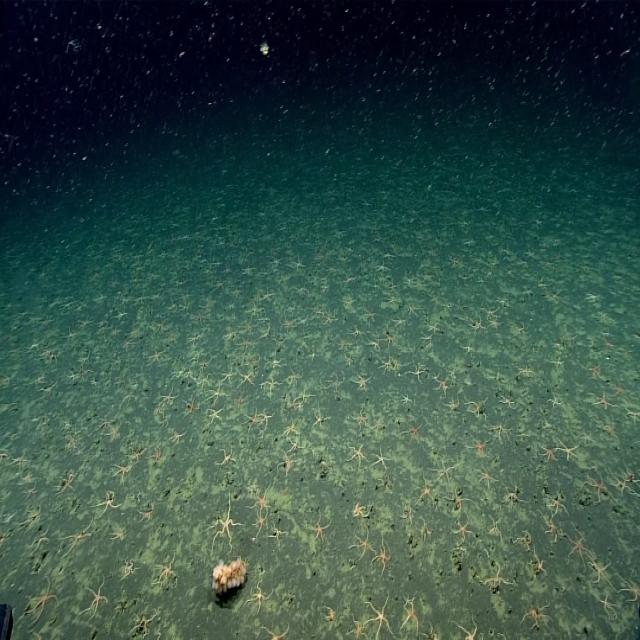brittle-stars: (210, 497, 238, 550), (26, 580, 56, 619), (84, 579, 109, 619), (63, 520, 92, 554), (368, 598, 392, 638), (584, 470, 609, 503), (566, 531, 588, 566), (247, 580, 270, 613), (156, 554, 178, 588), (523, 600, 549, 628), (96, 489, 122, 516), (484, 562, 509, 589), (432, 459, 456, 486), (611, 470, 635, 497), (587, 558, 610, 586), (352, 530, 374, 559), (373, 539, 392, 572), (309, 514, 331, 542), (452, 618, 480, 640), (402, 604, 422, 634), (621, 577, 640, 606), (253, 486, 273, 513), (542, 512, 561, 540), (447, 488, 469, 511), (558, 438, 579, 462), (595, 592, 616, 616), (501, 483, 522, 507), (548, 492, 568, 517), (262, 623, 291, 640), (452, 518, 473, 541), (374, 446, 392, 472), (591, 389, 613, 410), (463, 397, 485, 418), (349, 443, 367, 468), (58, 472, 76, 497), (404, 420, 424, 442), (470, 436, 490, 458), (478, 464, 497, 487), (279, 452, 298, 475), (418, 479, 434, 506), (490, 421, 511, 441), (350, 617, 368, 640), (584, 366, 604, 386), (253, 512, 269, 536), (112, 460, 131, 480), (538, 444, 557, 464), (160, 386, 179, 406), (613, 378, 632, 398), (586, 360, 605, 380), (325, 372, 343, 393), (10, 452, 29, 471), (352, 372, 370, 392), (498, 390, 516, 410), (123, 556, 138, 580), (409, 361, 426, 382), (271, 523, 288, 544), (312, 409, 328, 431), (352, 500, 370, 519), (382, 331, 399, 351), (208, 384, 225, 404), (352, 410, 368, 430), (435, 375, 451, 395), (208, 408, 225, 426), (170, 428, 187, 446), (110, 525, 127, 543), (148, 347, 164, 366), (218, 447, 234, 466), (183, 398, 199, 417), (268, 351, 284, 370), (24, 482, 40, 501), (260, 409, 275, 429), (236, 394, 251, 414), (521, 368, 538, 385), (264, 377, 280, 395), (282, 421, 298, 439), (482, 304, 500, 320), (372, 416, 387, 435), (286, 369, 301, 388), (139, 505, 154, 524), (233, 390, 247, 410), (246, 411, 260, 431), (551, 354, 567, 371), (444, 397, 460, 414), (336, 336, 353, 352), (552, 360, 568, 377), (391, 312, 407, 329), (131, 446, 146, 464), (362, 306, 377, 324), (270, 358, 285, 376), (106, 423, 120, 442), (149, 446, 162, 466), (518, 362, 534, 378), (261, 287, 277, 303), (471, 318, 487, 334), (98, 415, 114, 431), (426, 318, 441, 335), (343, 292, 357, 310), (288, 438, 302, 456), (282, 314, 296, 332), (77, 314, 92, 330), (426, 624, 441, 640), (220, 368, 234, 385), (198, 372, 212, 389), (464, 339, 477, 357), (240, 372, 254, 388), (238, 337, 252, 353), (366, 338, 380, 353), (376, 262, 390, 276), (242, 263, 255, 278), (350, 327, 363, 342), (287, 395, 299, 411), (123, 337, 136, 351), (322, 312, 334, 327), (405, 592, 417, 606), (400, 392, 411, 406)
